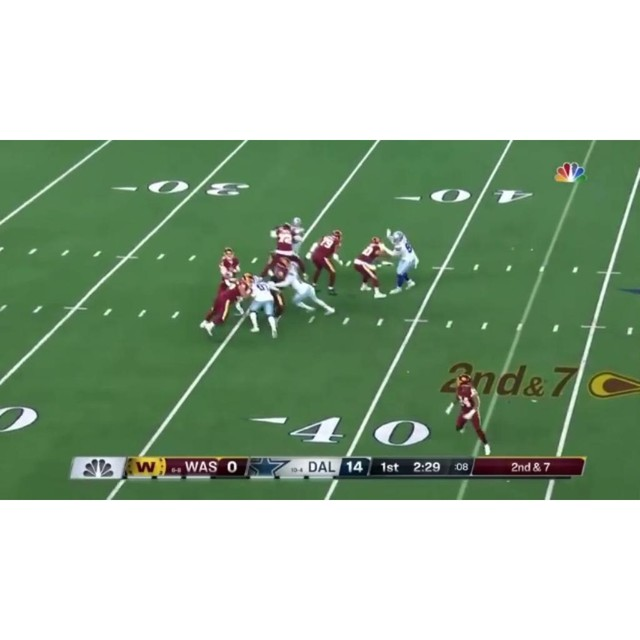american-football-player: (446, 375, 493, 454), (200, 275, 255, 337), (286, 265, 335, 317), (308, 229, 345, 293), (353, 236, 391, 298), (383, 231, 420, 293), (248, 273, 280, 338), (218, 246, 241, 283)
